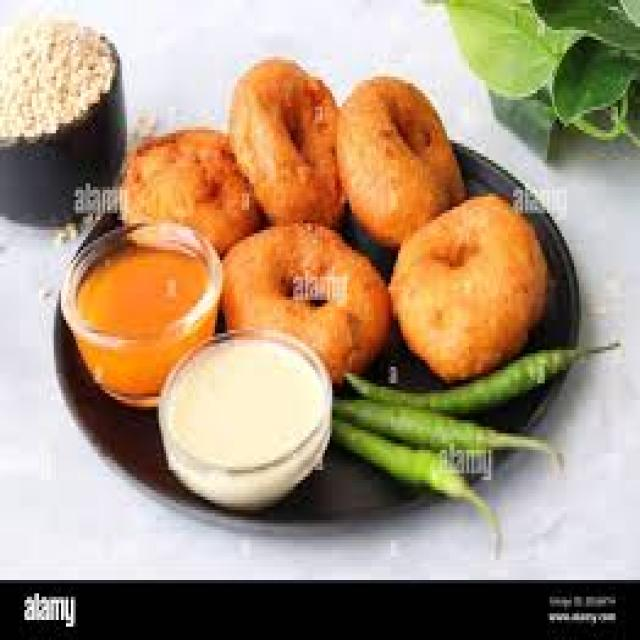MEDU VADA: (392, 189, 552, 377), (220, 224, 386, 375), (343, 70, 464, 242), (230, 56, 349, 230), (121, 125, 257, 246)
